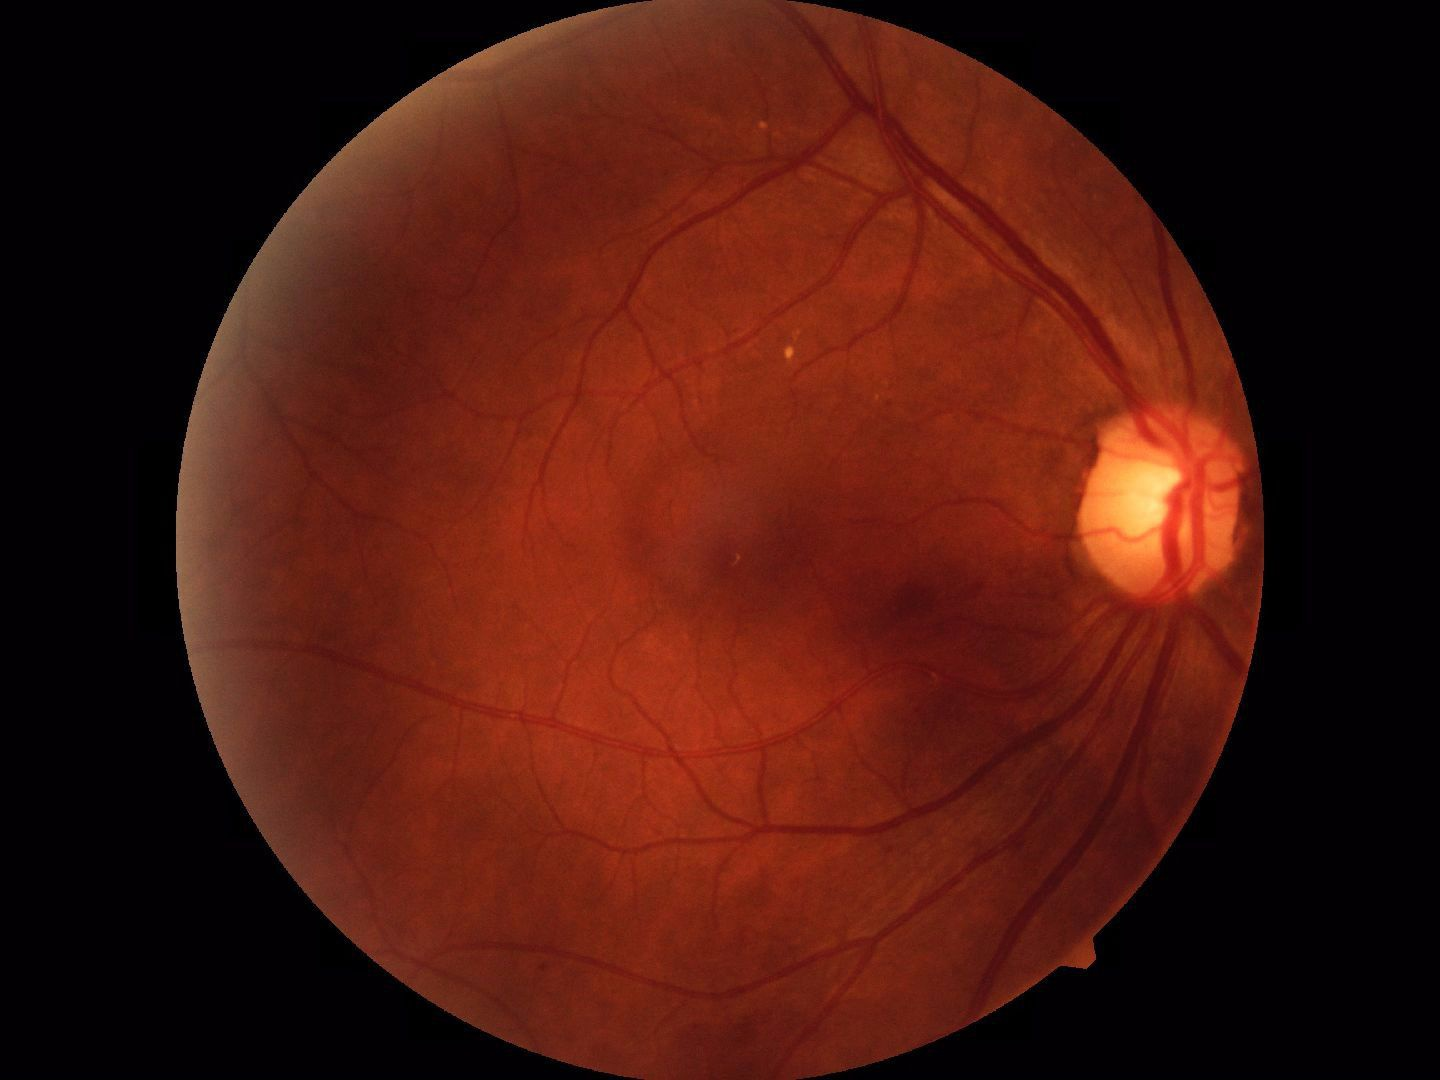Optic-Disc: (1073, 397, 1250, 613)
Venules: (892, 144, 1090, 329)
